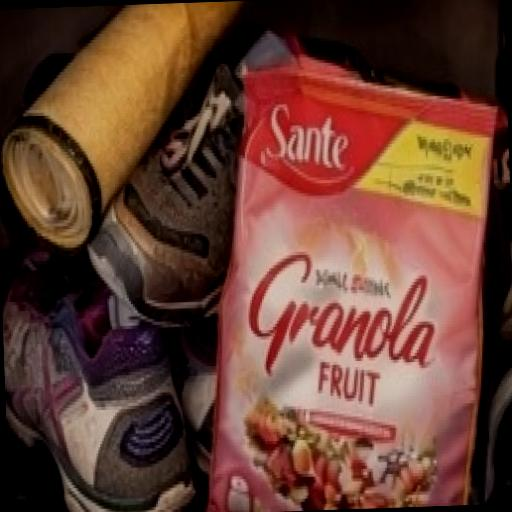granola: (186, 4, 511, 512)
